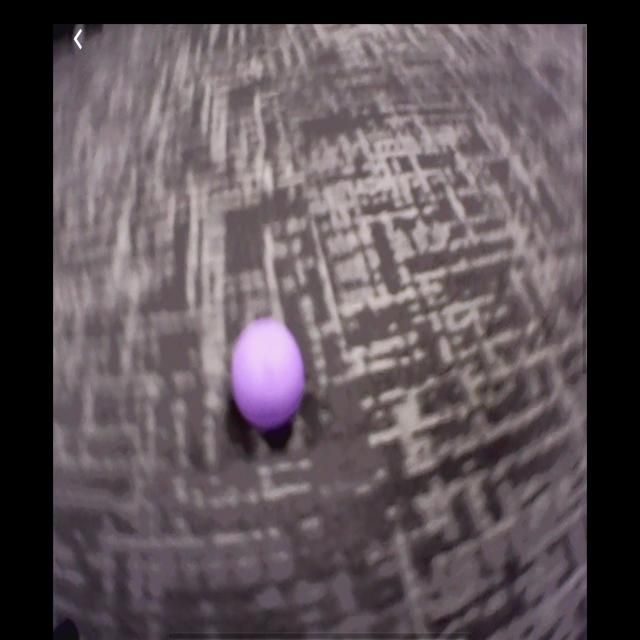ball: (233, 318, 306, 426)
